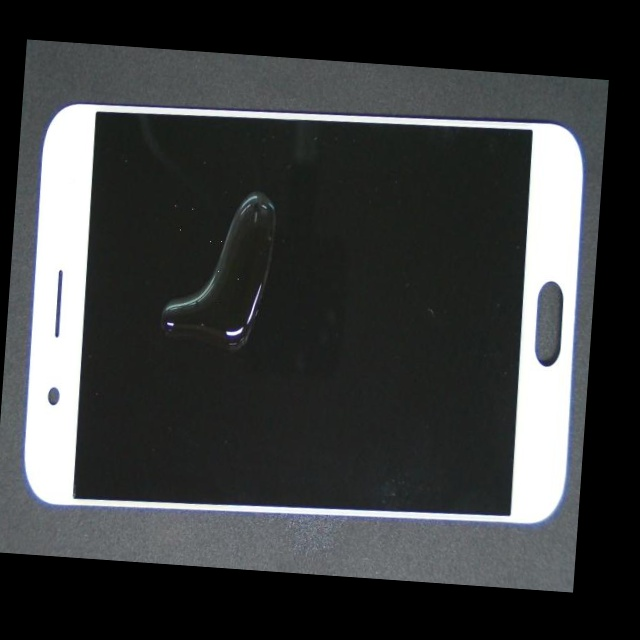oil: (145, 69, 356, 310)
